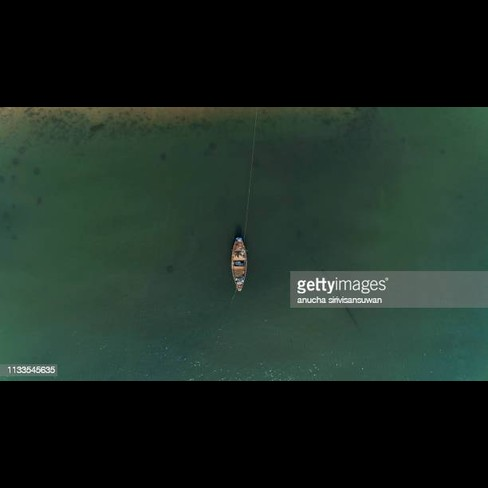boat: (225, 232, 254, 296)
